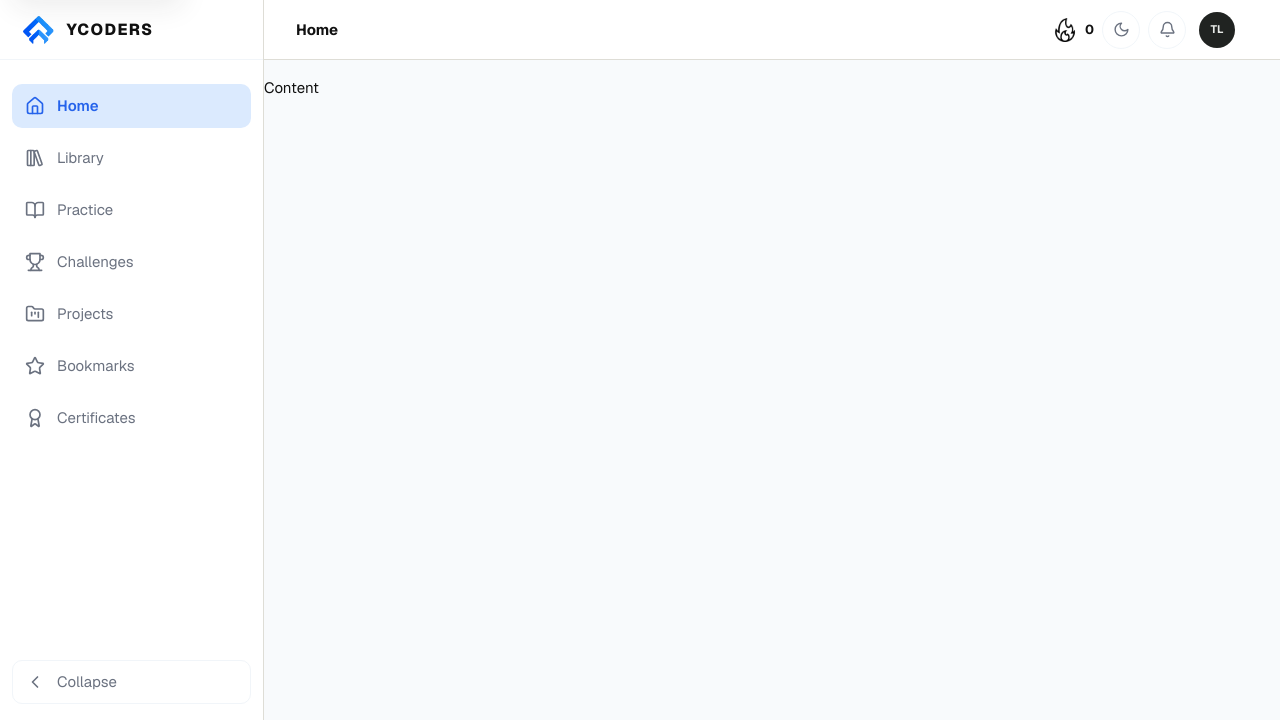
Test: AppShell account navigation menu › navigates to referrals in the same app and closes the menu
Click the button with aria-label "Open user menu".
click(1221, 30)  # box top-left (1194, 6), bottom-right (1248, 52)
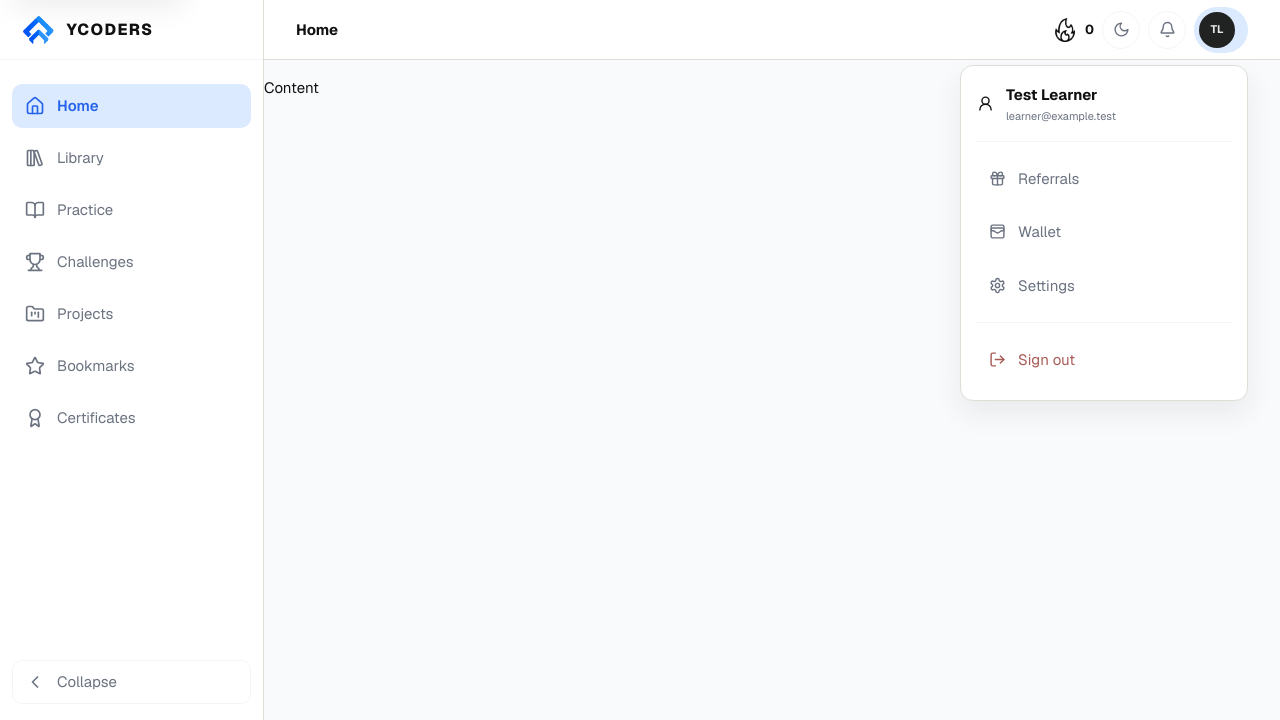
Click the menu item "Referrals".
click(1104, 179)  # box top-left (977, 154), bottom-right (1231, 203)
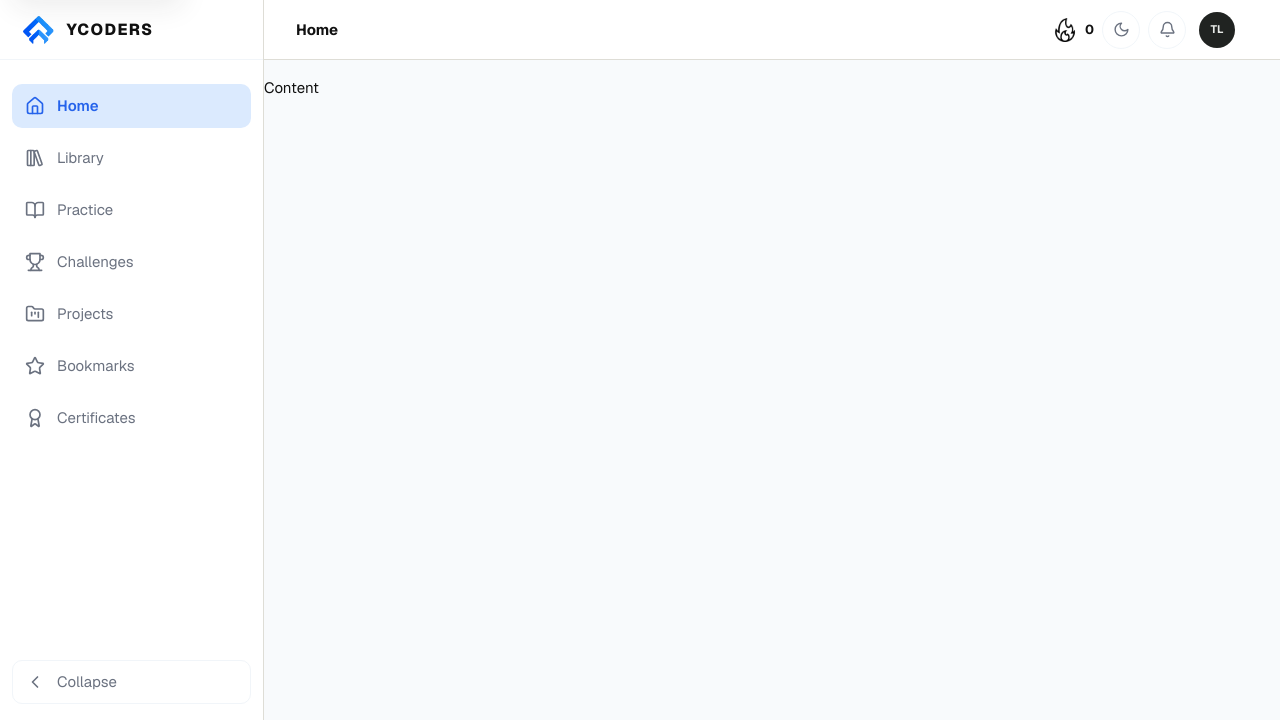
Now the menu "User menu" is gone
